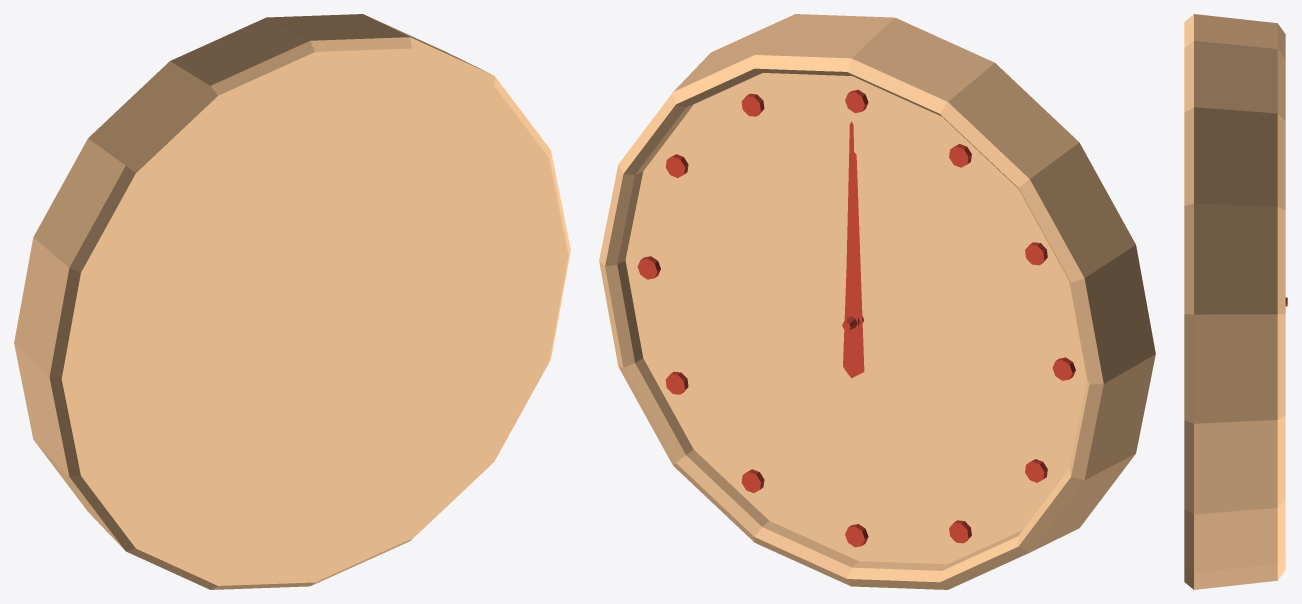
File: Wall Clock 2.fbx
3 views of the same model, side by side, from view 1: azimuth 30°, elevation 25°; view 2: azimuth 150°, elevation 25°; view 3: azimuth 270°, elevation 25° (orthographic). The views are drawn at different scales.
Visible parts, largest first — view 1: Node 0; view 2: Node 0, Node 1, Node 2; view 3: Node 0.
Boxes of the visible parts, x1,y1,x2,y2 form: Node 0: (14, 14, 570, 589); Node 0: (599, 14, 1155, 589); Node 1: (844, 121, 859, 378); Node 2: (843, 152, 864, 376); Node 0: (1184, 14, 1287, 589).
Bounding box in the file's own units: 0.1427 × 0.7984 × 0.7984.
